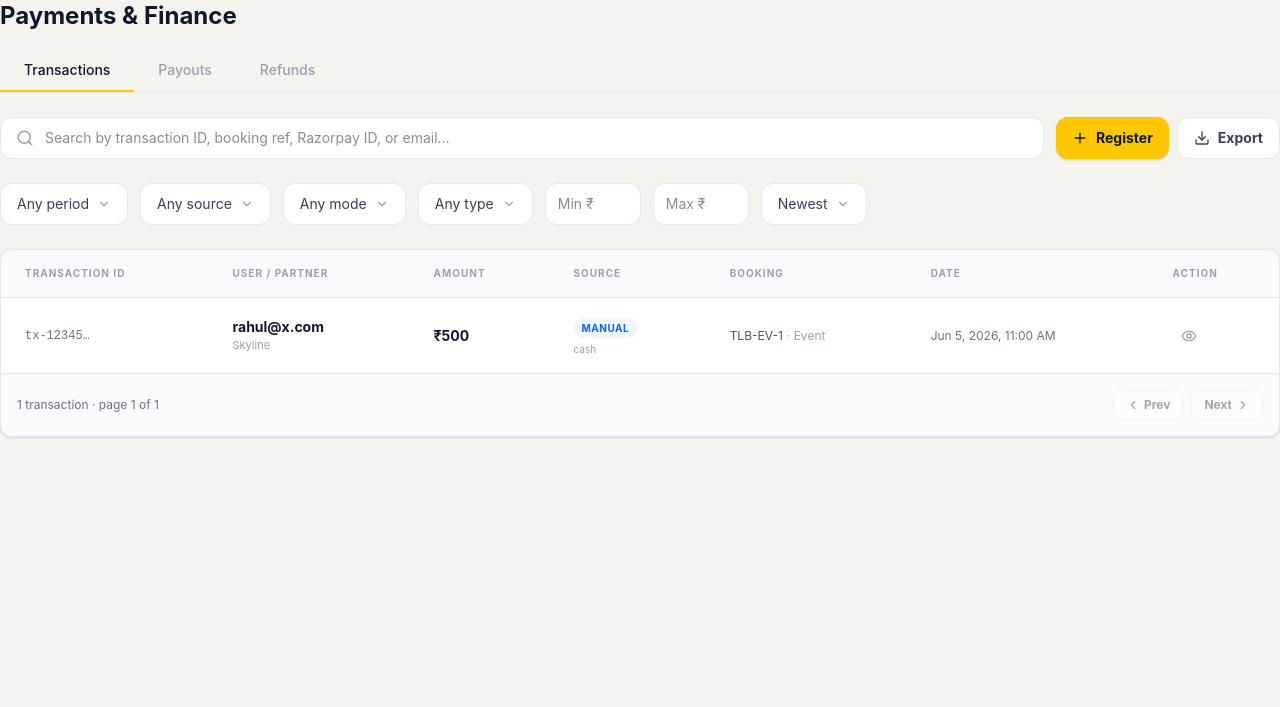
PaymentsFinance › opens the transaction detail slide-over
The width and height of the screenshot is (1280, 707).
Step 1. Click the text "rahul@x.com" → {"x": 278, "y": 327}, box left=232, top=318, right=324, bottom=335
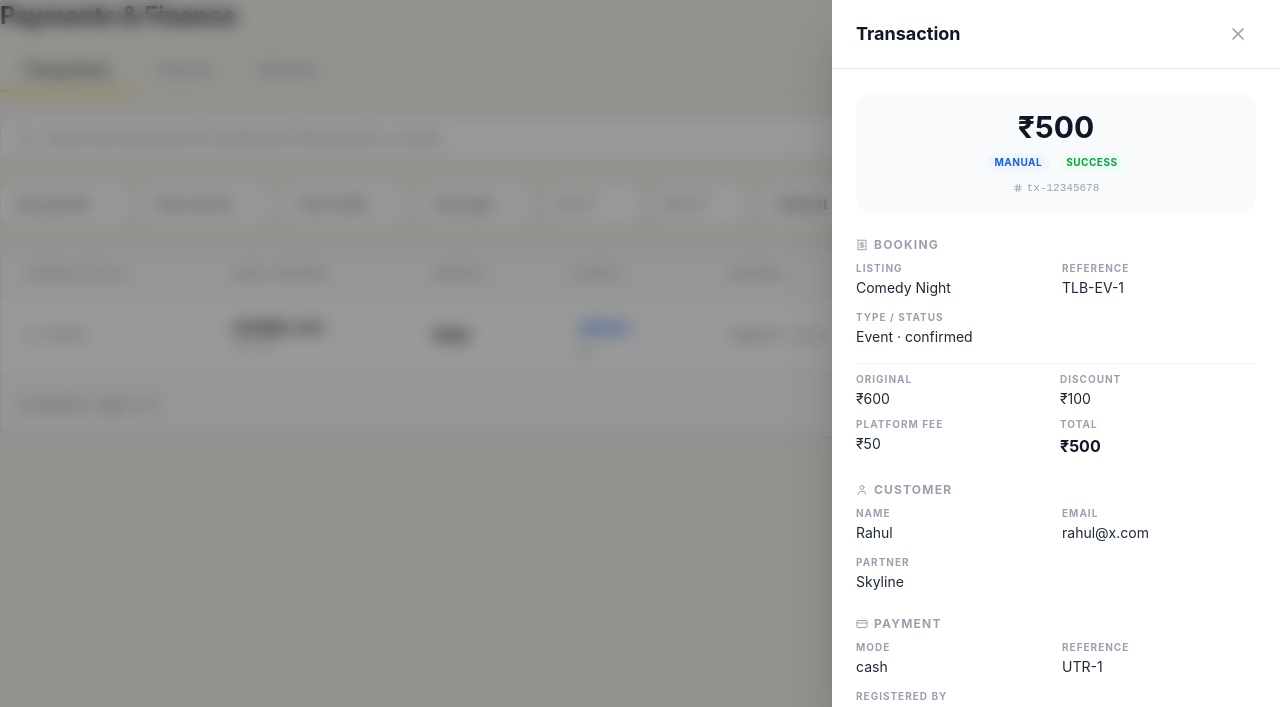
expect the text "Comedy Night" is shown: met, box left=856, top=278, right=951, bottom=296
